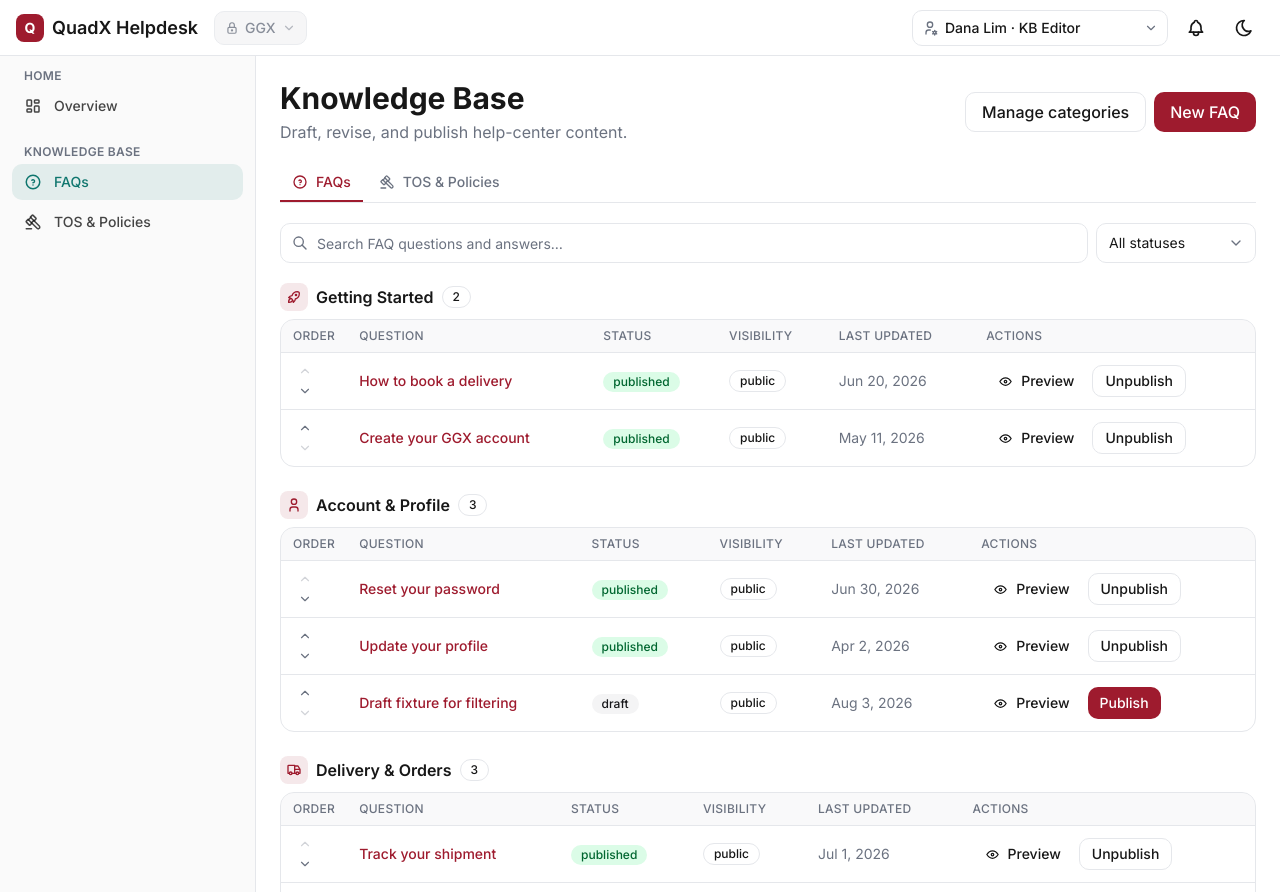
Scenario: KB administration › reorders FAQ articles within a category
expect the button named "move How to book a delivery up" is disabled: met, box top-left (293, 361), bottom-right (317, 381)
Click the button named "move Create your GGX account up" at (305, 428), box top-left (293, 418), bottom-right (317, 438)
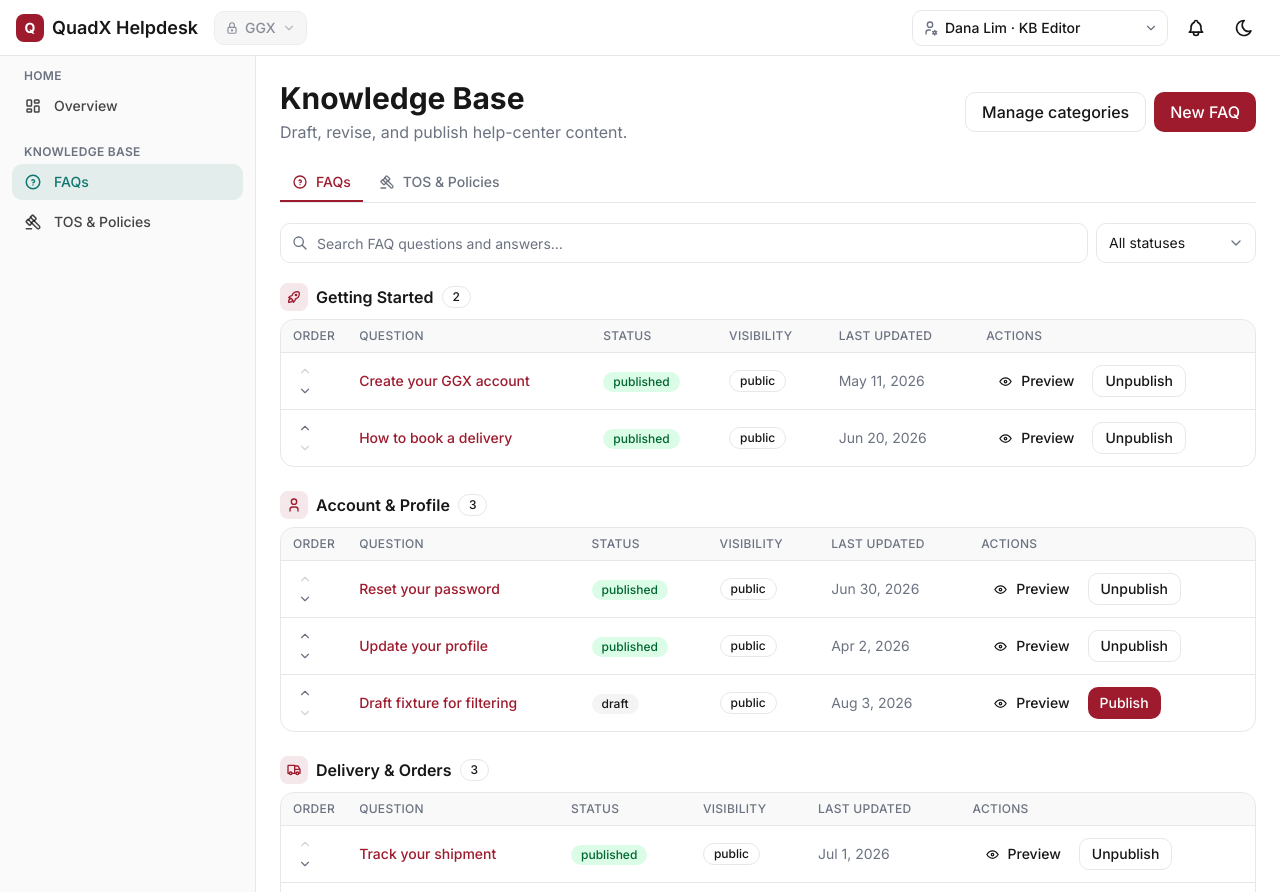
expect the link "Create your GGX account" is shown: met, box top-left (359, 372), bottom-right (530, 389)
